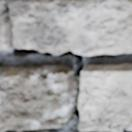brick: (0, 66, 73, 131), (79, 64, 131, 126), (79, 112, 107, 130)
broken_brick: (9, 0, 131, 56), (0, 0, 11, 50)
crack: (2, 0, 131, 131)
